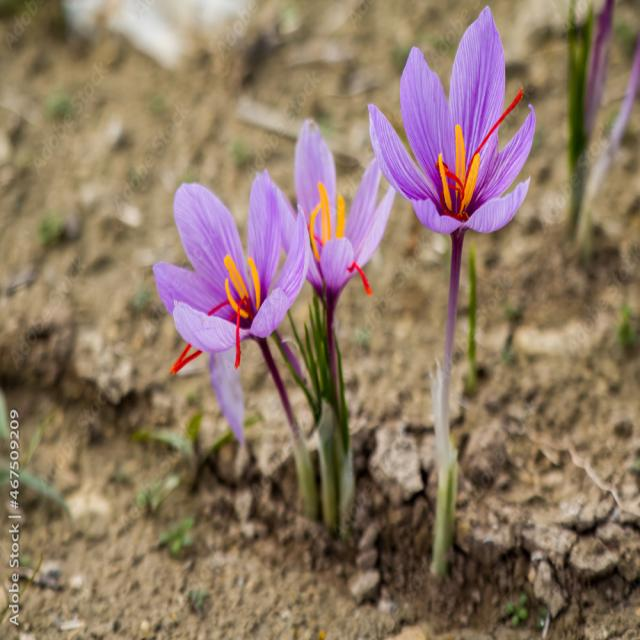saffron open: (369, 7, 535, 575), (154, 171, 316, 513), (294, 120, 395, 528), (275, 187, 296, 251)
